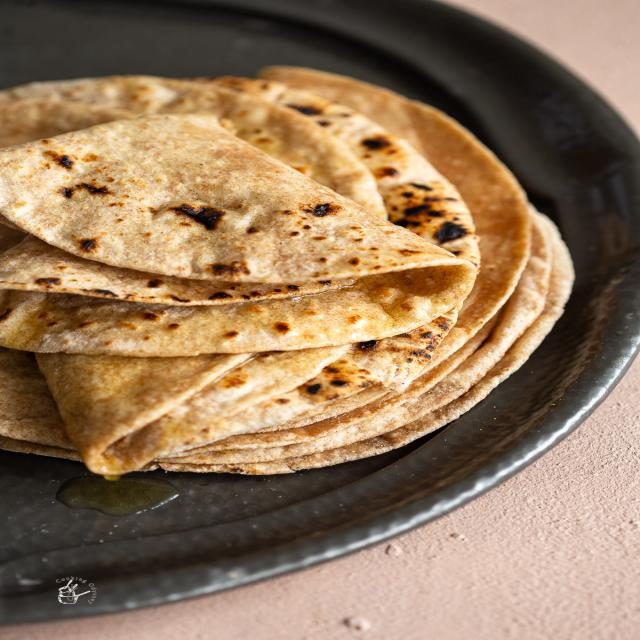ROTI: (6, 62, 576, 473)
